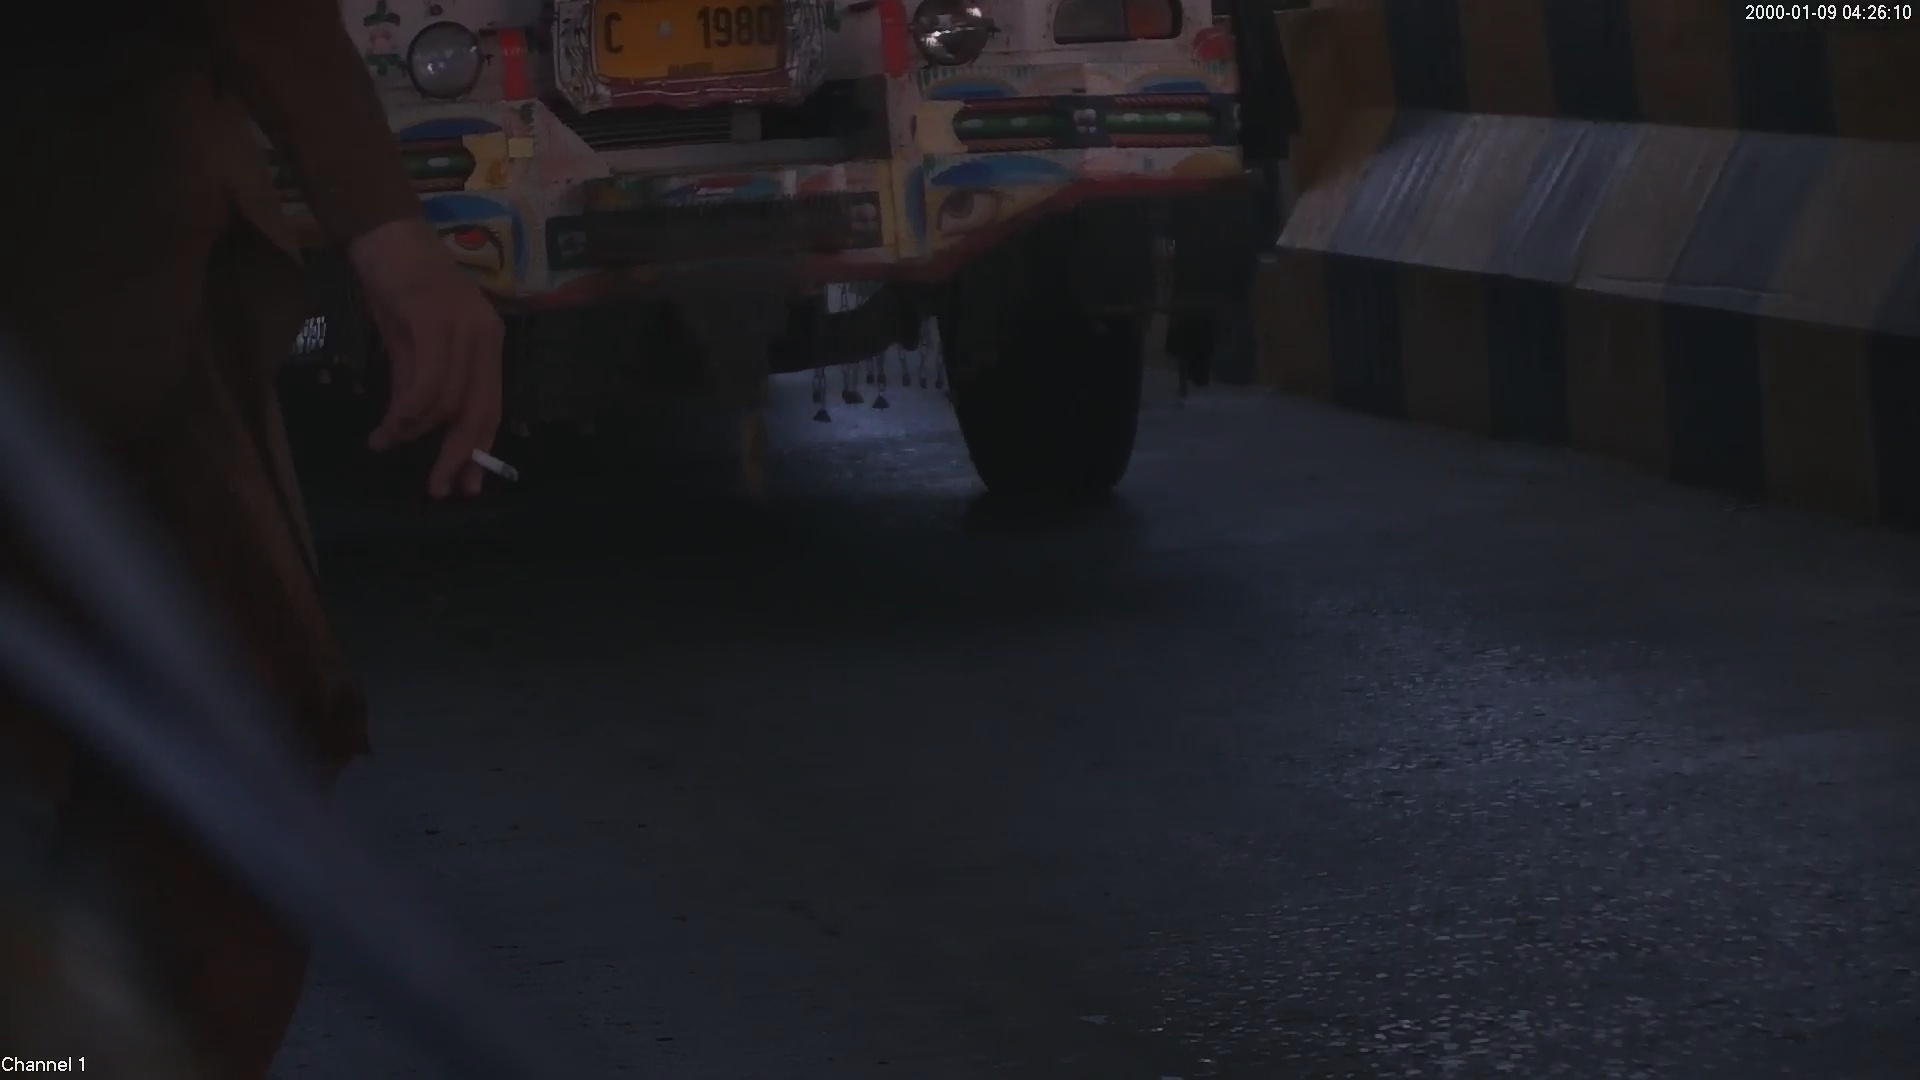Number_Plate: (593, 3, 806, 96)
